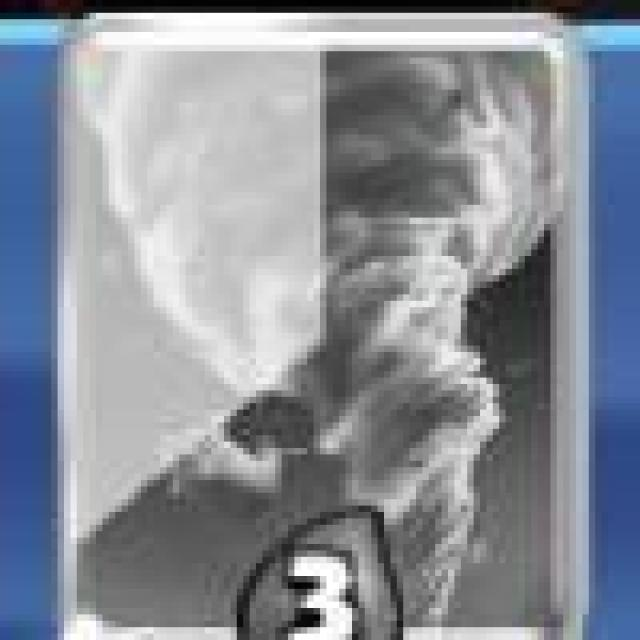Tornado: (58, 14, 587, 640)
